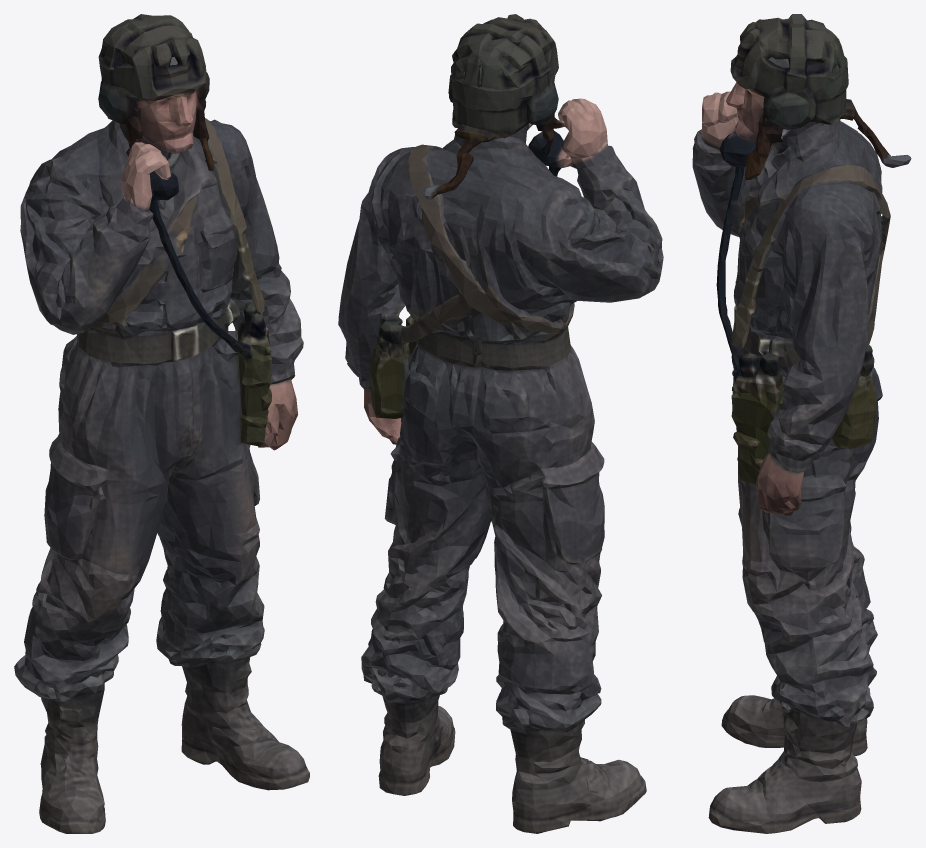
The model's file is crew_su_radio.obj.
3 renders of one model, left to right at view 1: azimuth 30°, elevation 25°; view 2: azimuth 150°, elevation 25°; view 3: azimuth 270°, elevation 25°, orthographic.
Visible parts, largest first — view 1: crew_su_radio; view 2: crew_su_radio; view 3: crew_su_radio.
Part boxes in pixels (left/top/right/bottom): crew_su_radio: left=14, top=14, right=309, bottom=833; crew_su_radio: left=338, top=14, right=663, bottom=833; crew_su_radio: left=692, top=14, right=911, bottom=833.
Size of the model in its own units: 0.6889 by 1.8 by 0.4729.
Materials: 1 (1 with a texture image).
